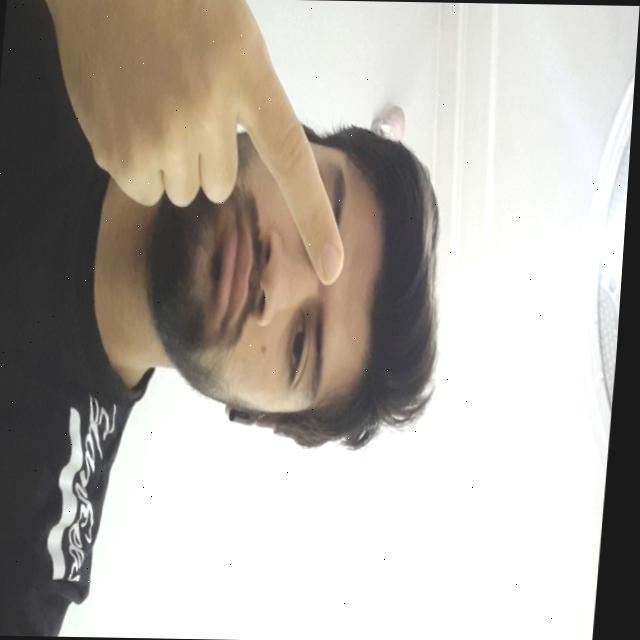Head: (137, 110, 457, 455)
One: (22, 0, 369, 297)
